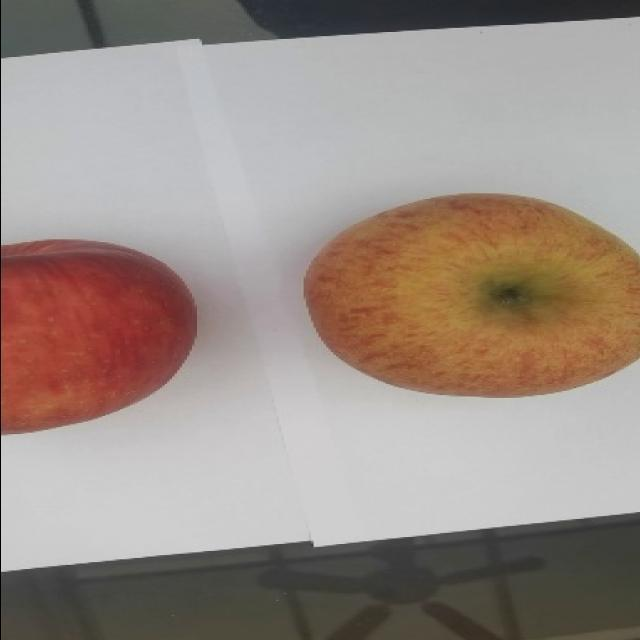Apple: (302, 191, 639, 398), (0, 237, 198, 435)
